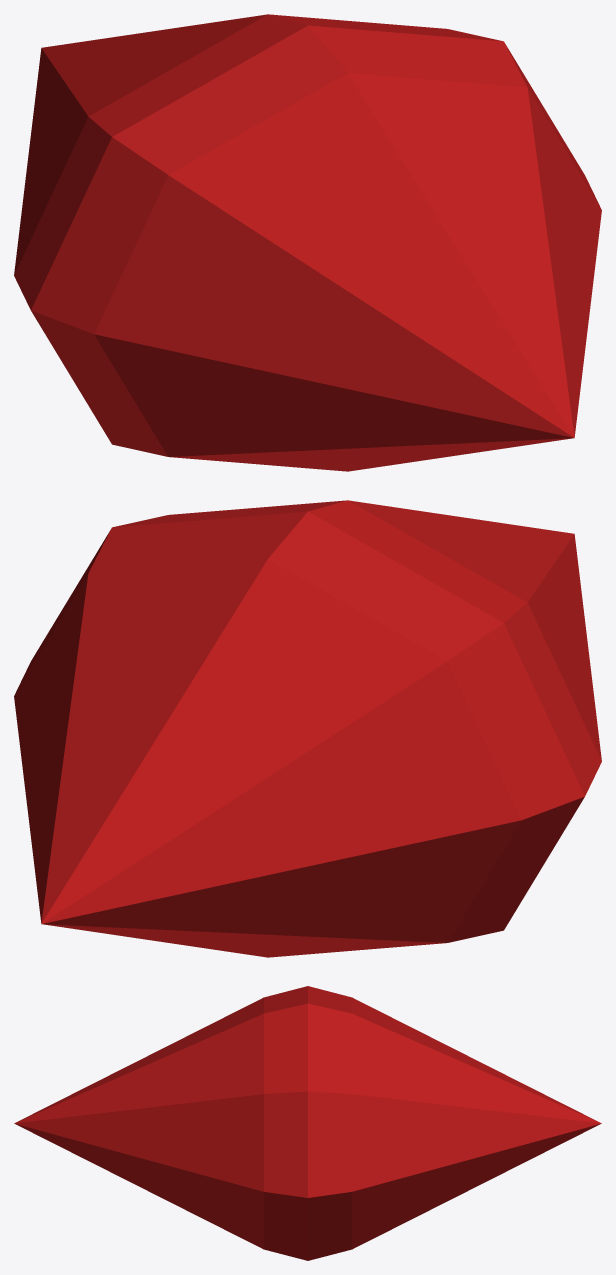
The model's file is relic2_Heart.fbx.
3 views of the same model, one above another, from view 1: azimuth 30°, elevation 25°; view 2: azimuth 150°, elevation 25°; view 3: azimuth 270°, elevation 25° (orthographic). The views are drawn at different scales.
Parts seen in each view (by area): view 1: R2Heart; view 2: R2Heart; view 3: R2Heart.
Boxes of the visible parts, x1,y1,x2,y2 form: R2Heart: [14, 14, 601, 471]; R2Heart: [14, 500, 601, 957]; R2Heart: [14, 986, 601, 1260].
Size of the model in its own units: 0.24 by 0.18 by 0.4.
